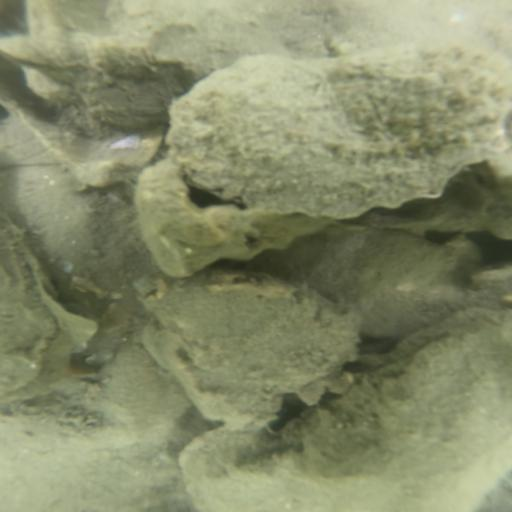Oyster-Closed: (166, 41, 512, 218), (149, 284, 354, 432), (261, 231, 458, 337)
Oyster-Open: (184, 296, 512, 510)
